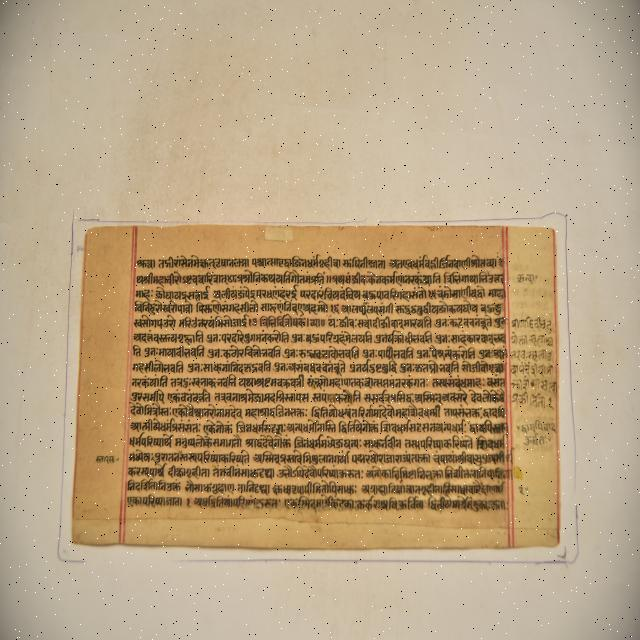text_paragraph: (71, 224, 560, 543)
